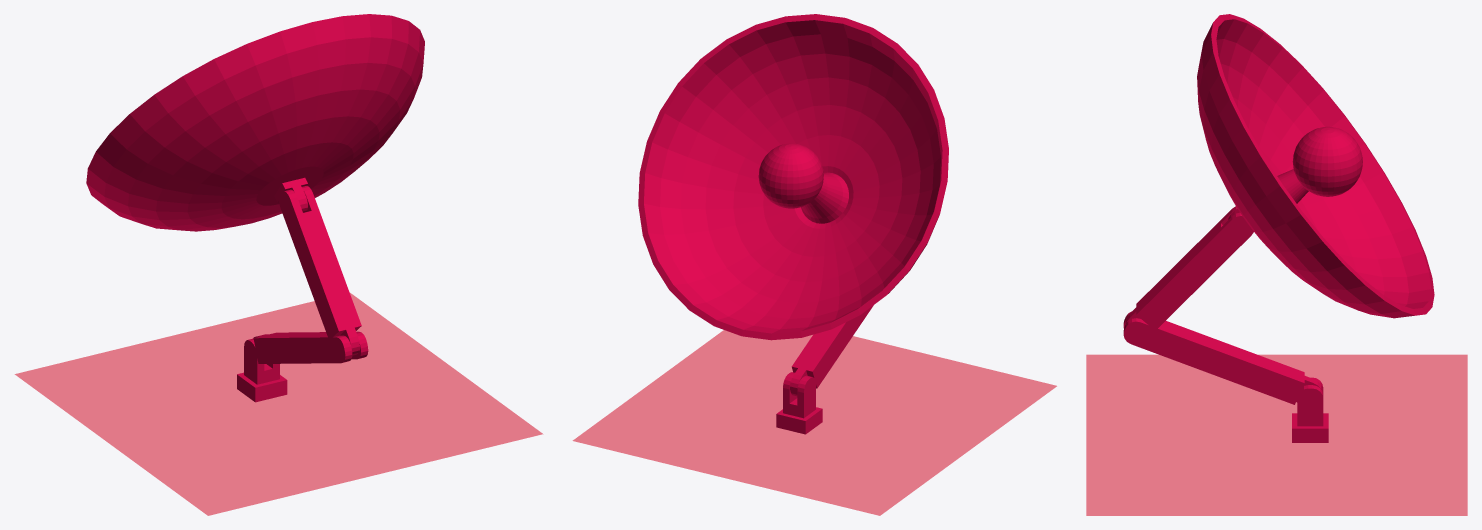
Rendered from small antenna_pink.fbx.
3 renders of one model, left to right at view 1: azimuth 30°, elevation 25°; view 2: azimuth 150°, elevation 25°; view 3: azimuth 270°, elevation 25°, orthographic. The views are drawn at different scales.
Parts seen in each view (by area): view 1: Plane, Sphere, Cube.005, Cube.004, Cube.001; view 2: Sphere, Plane, Sphere.002, Cube.004, Cube.001; view 3: Plane, Sphere, Cube.004, Cube.005, Sphere.002, Cube.001.
Part boxes in pixels (x1,y1,x2,y2): Plane: [14, 292, 543, 515]; Sphere: [86, 14, 424, 231]; Cube.005: [279, 186, 361, 355]; Cube.004: [253, 331, 368, 363]; Cube.001: [237, 338, 287, 402]; Sphere: [638, 14, 948, 340]; Plane: [572, 330, 1056, 515]; Sphere.002: [758, 143, 823, 208]; Cube.004: [790, 305, 873, 396]; Cube.001: [776, 372, 822, 434]; Plane: [1086, 354, 1467, 515]; Sphere: [1197, 14, 1434, 318]; Cube.004: [1123, 311, 1322, 404]; Cube.005: [1125, 206, 1253, 328]; Sphere.002: [1292, 126, 1362, 196]; Cube.001: [1292, 377, 1328, 442].
Bounding box in the file's own units: 500 × 585 × 500.
